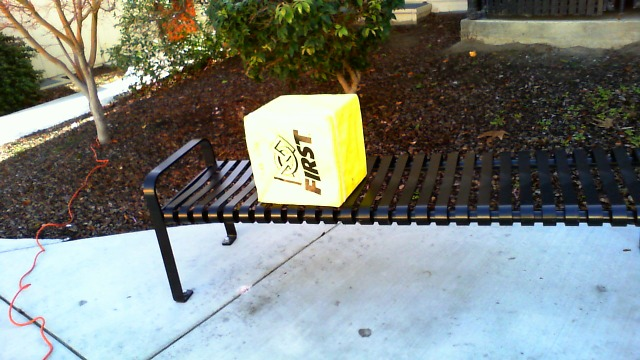cube: (244, 94, 365, 210)
